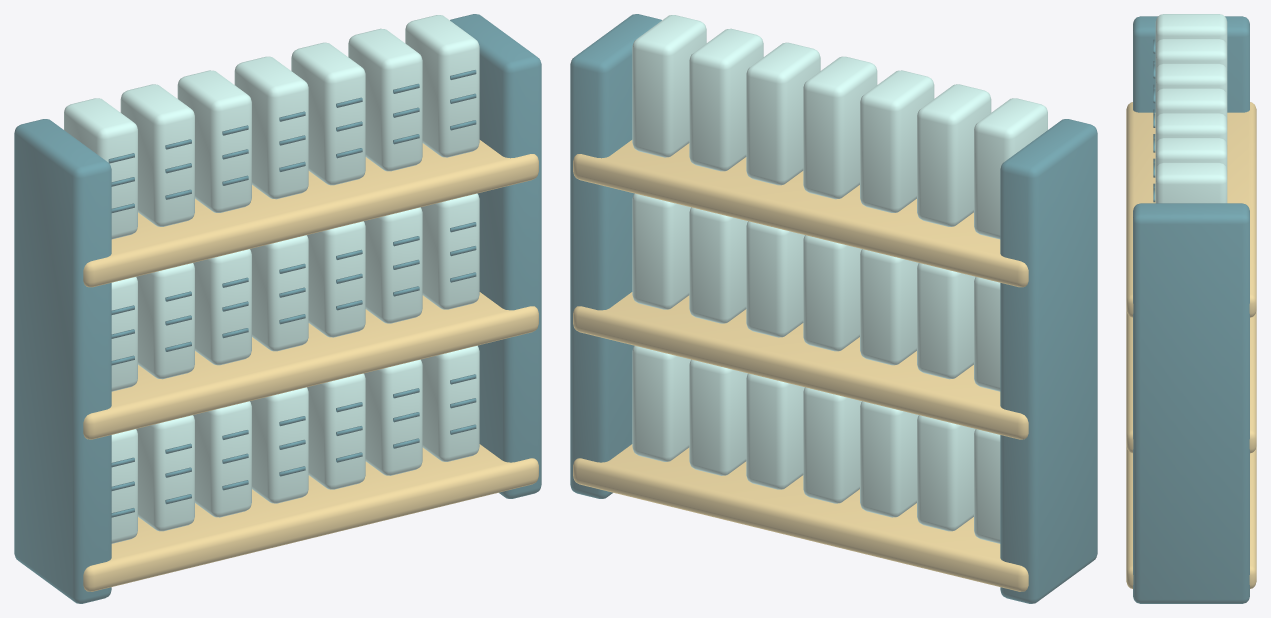
Rendered from atlantis_detail_tablet_shelf.glb.
The picture shows the model from 3 angles, left to right: view 1: azimuth 30°, elevation 25°; view 2: azimuth 150°, elevation 25°; view 3: azimuth 270°, elevation 25°; orthographic projection. The views are drawn at different scales.
Parts seen in each view (by area): view 1: atlantis_detail_tablet_shelf_surface; view 2: atlantis_detail_tablet_shelf_surface; view 3: atlantis_detail_tablet_shelf_surface.
Part boxes in pixels (box(x1,y1,x2,y2)): atlantis_detail_tablet_shelf_surface: box(14, 14, 541, 603); atlantis_detail_tablet_shelf_surface: box(570, 14, 1097, 603); atlantis_detail_tablet_shelf_surface: box(1126, 14, 1256, 603).
Size of the model in its own units: 3.7 by 3.45 by 1.
